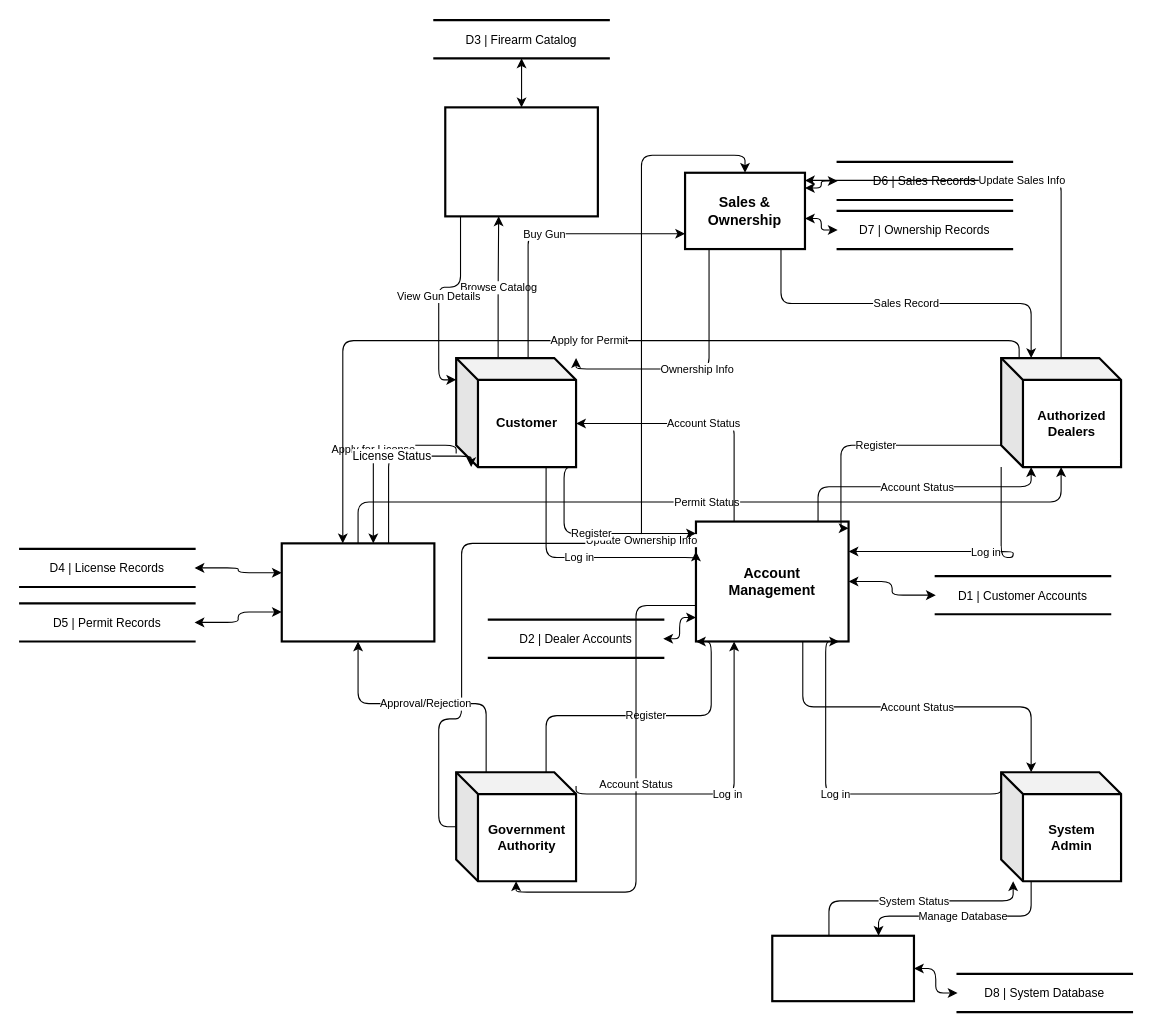
Some shapes in this 1151 by 1031 pixel diagram are drawn without their labels. Here are the shapes that lost their labels. From the top down, the centre of each, then its label:
At point 521,161: "Firearm Catalog".
At point 357,592: "License & Permit".
At point 843,968: "System Administration".
